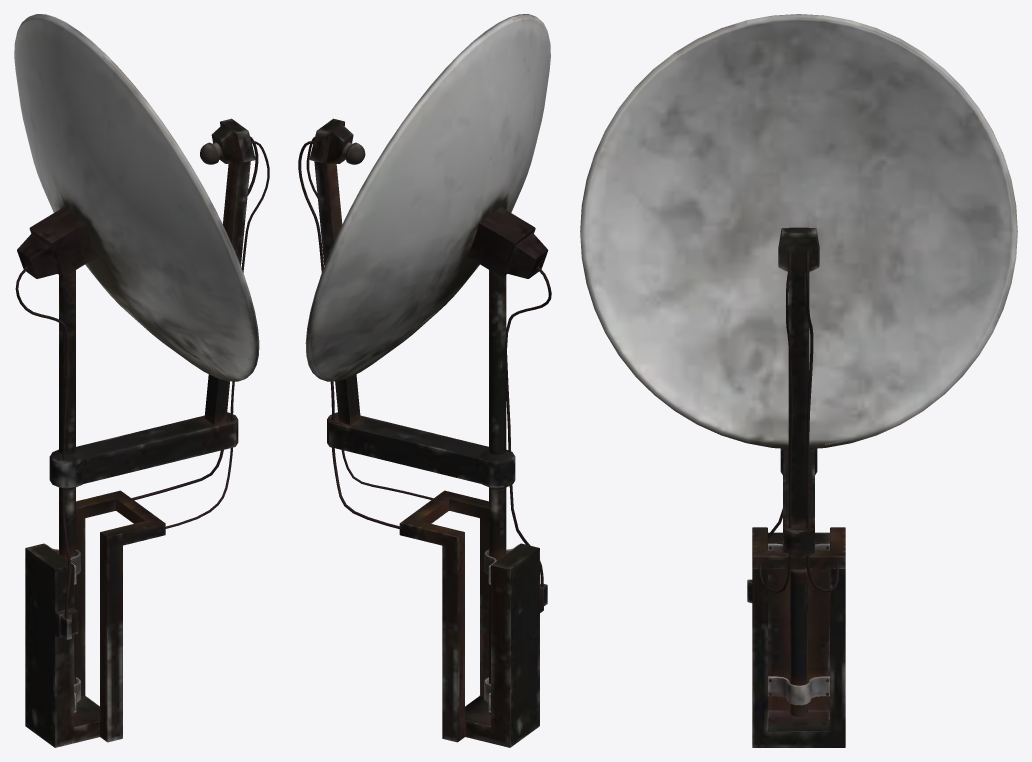
The model's file is sp-dish.glb.
3 views of the same model, side by side, from view 1: azimuth 30°, elevation 25°; view 2: azimuth 150°, elevation 25°; view 3: azimuth 270°, elevation 25° (orthographic). The views are drawn at different scales.
Visible parts, largest first — view 1: sp-dish; view 2: sp-dish; view 3: sp-dish.
Part boxes in pixels (left/top/right/bottom): sp-dish: left=14, top=14, right=269, bottom=747; sp-dish: left=298, top=14, right=551, bottom=747; sp-dish: left=580, top=14, right=1017, bottom=747.
Bounding box in the file's own units: 3.36 × 9 × 4.94.
Materials: 1 (1 with a texture image).
